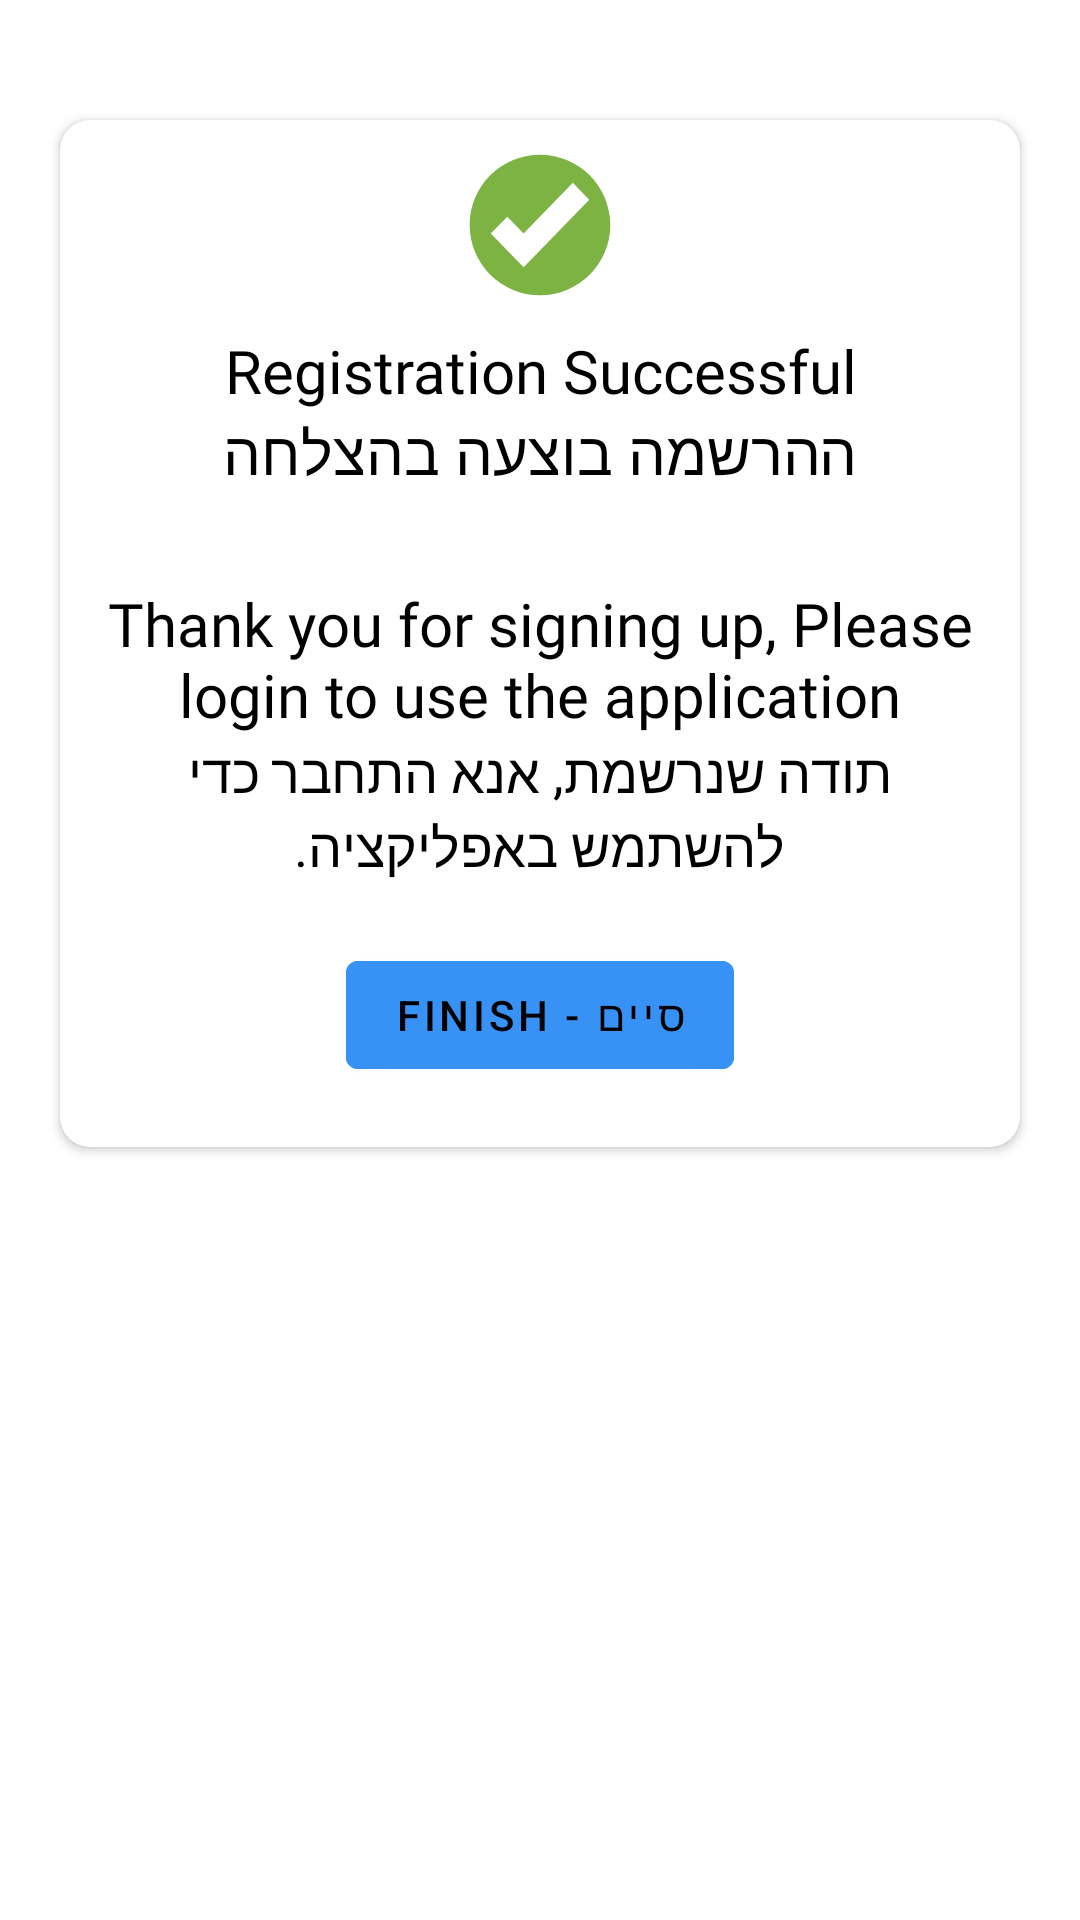

Icon click points for this 1080 × 1920 phone screenshot, format (x=x, y=y):
tick: (x=540, y=225)
